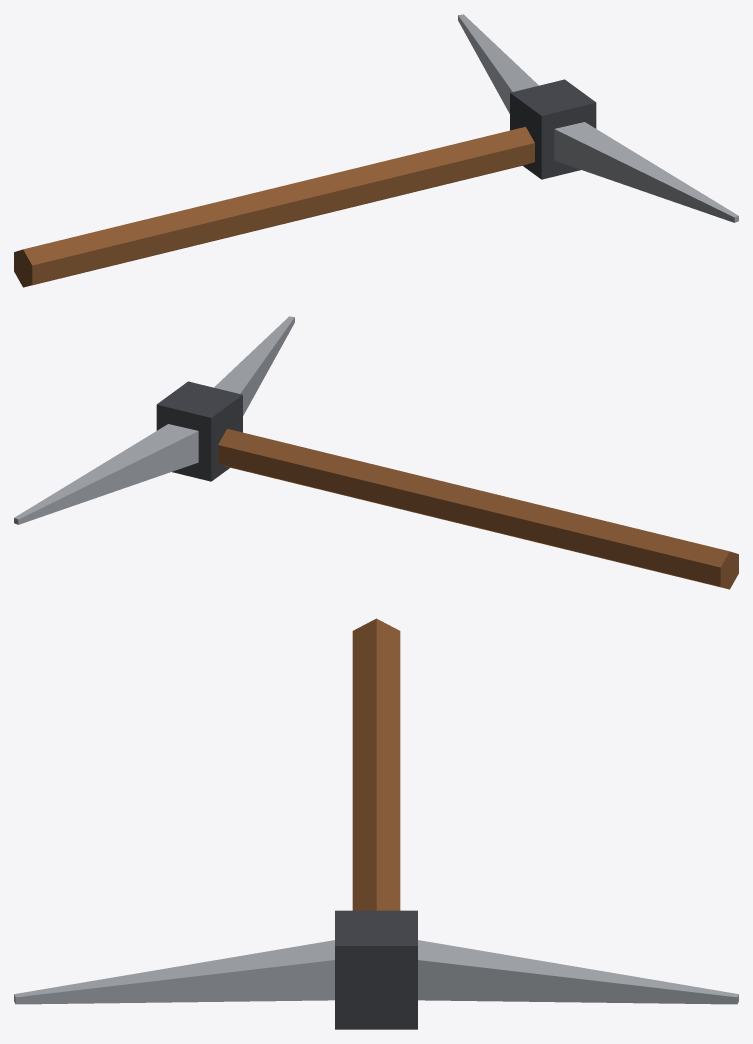
Rendered from mine_pickaxe.glb.
The picture shows the model from 3 angles, top to bottom: view 1: azimuth 30°, elevation 25°; view 2: azimuth 150°, elevation 25°; view 3: azimuth 270°, elevation 25°; orthographic projection. The views are drawn at different scales.
Visible parts, largest first — view 1: mine_pickaxe; view 2: mine_pickaxe; view 3: mine_pickaxe.
Part boxes in pixels (bbox=[...]): mine_pickaxe: bbox=[14, 14, 738, 287]; mine_pickaxe: bbox=[14, 316, 738, 589]; mine_pickaxe: bbox=[14, 618, 738, 1029].
Size of what is drawn, in the model's own units: 0.949 by 0.1 by 0.786.
